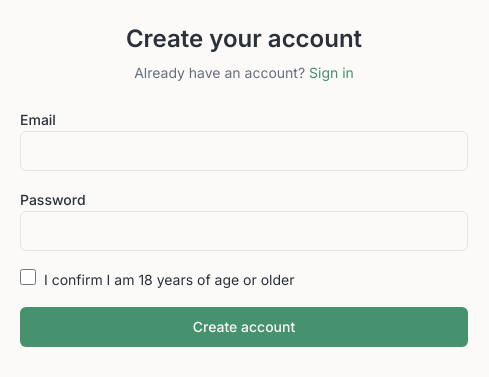
Test case: SignUpPage › shows inline error for short password
Type "short" into the password field labelled "Password" at (244, 231), box x1=20 y1=211 x2=468 y2=251
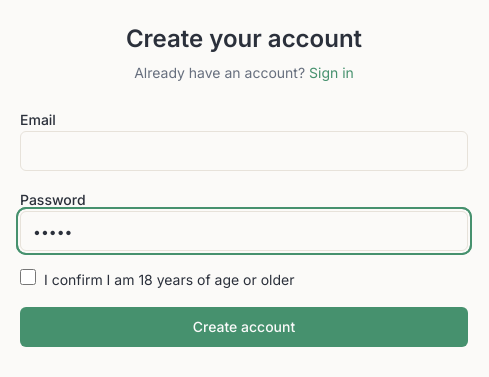
Leave the password field labelled "Password", box x1=20 y1=211 x2=468 y2=251
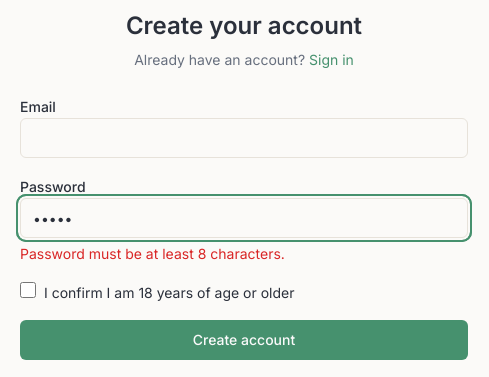
Check: the text "Password must be at least 8 characters." is shown, box x1=20 y1=245 x2=285 y2=262
